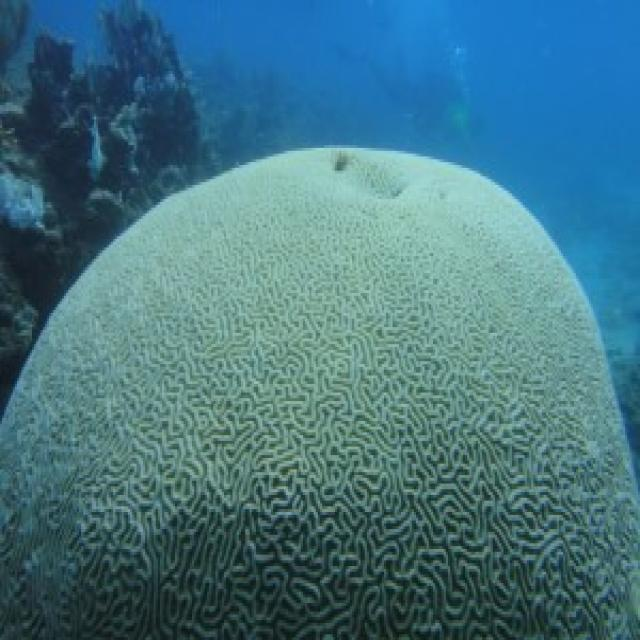Bleached: (8, 113, 640, 640)
